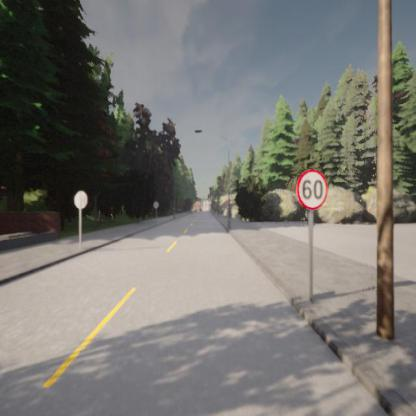traffic_sign_60: (296, 168, 328, 210)
